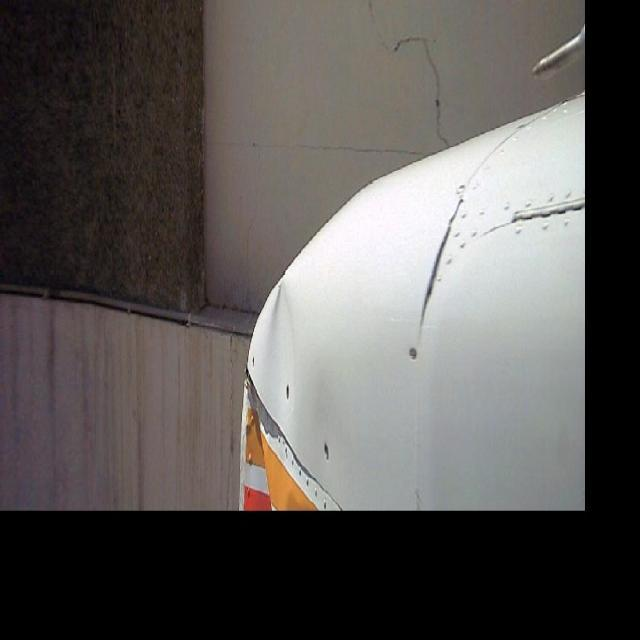dent: (223, 274, 304, 568)
